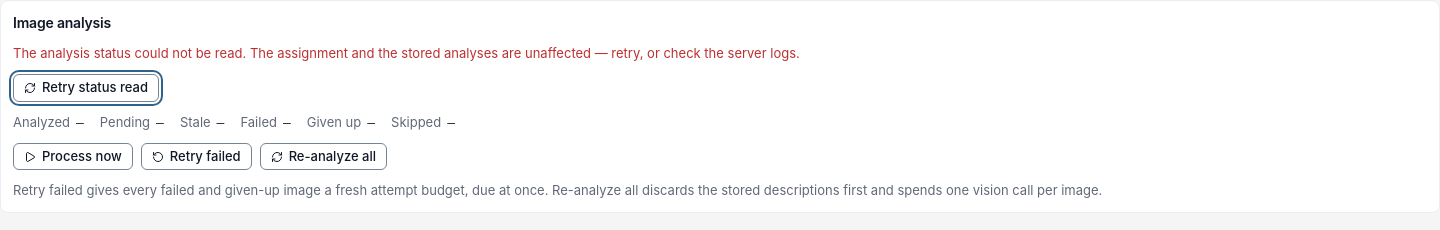
it: the three fetch states › keeps the retry control focusable and rehomes focus once the read succeeds
Click the button "Retry status read". click: (86, 88)
box: [13,74,159,102]
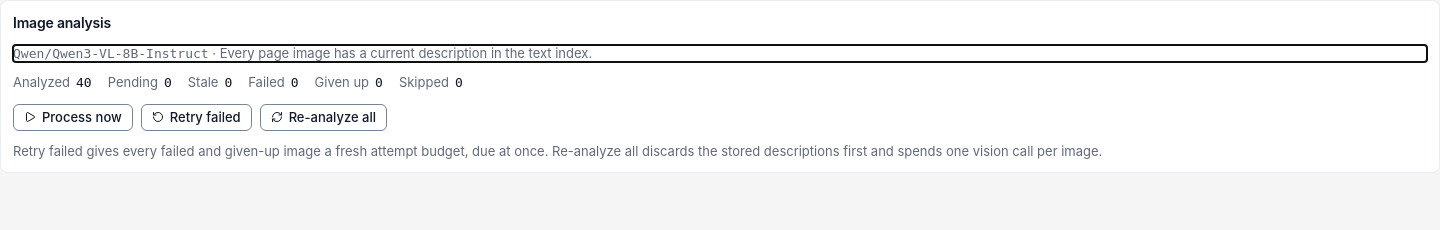
Now the message with test id "image-analysis-status-retry" is gone
